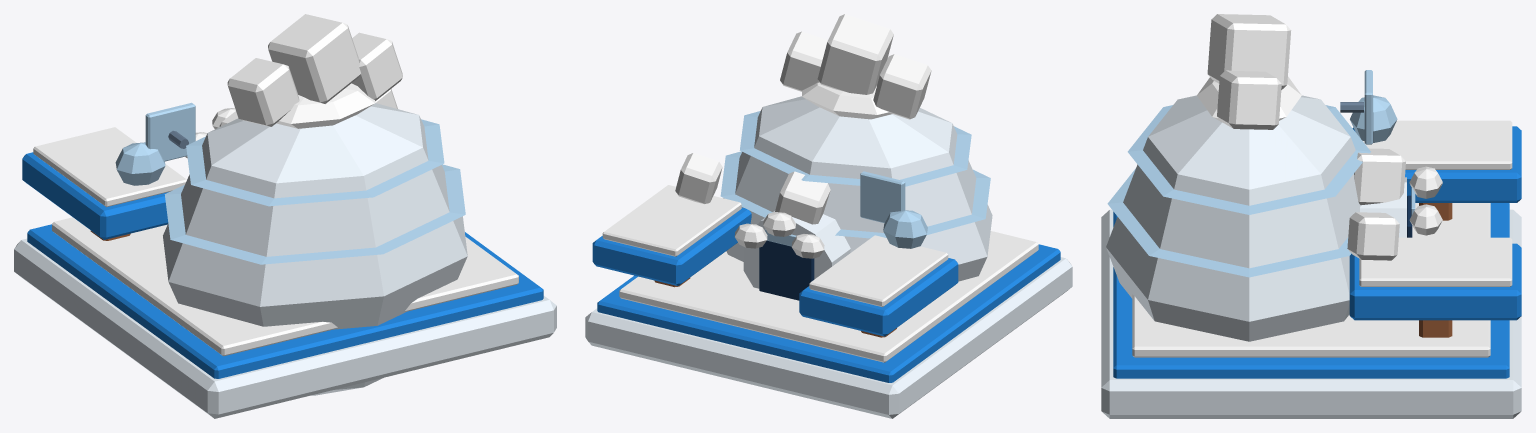
File: Building_IceHouse_1x1_v002.fbx
The picture shows the model from 3 angles, left to right: view 1: azimuth 30°, elevation 25°; view 2: azimuth 150°, elevation 25°; view 3: azimuth 270°, elevation 25°; orthographic projection. The views are drawn at different scales.
Visible parts, largest first — view 1: FixedShell, WorkingPartMesh, OutputItemMesh; view 2: FixedShell, EffectPartMesh, ProcessFinishedMesh, WorkingPartMesh, InputItemMesh, OutputItemMesh; view 3: FixedShell, ProcessFinishedMesh, InputItemMesh, EffectPartMesh, OutputItemMesh, WorkingPartMesh.
Part boxes in pixels (x1,y1,x2,y2): FixedShell: (14,14,556,418); WorkingPartMesh: (145,102,195,161); OutputItemMesh: (115,142,165,185); FixedShell: (585,14,1072,418); EffectPartMesh: (734,212,824,258); ProcessFinishedMesh: (775,171,830,224); WorkingPartMesh: (860,171,905,223); InputItemMesh: (675,153,722,203); OutputItemMesh: (883,210,927,248); FixedShell: (1101,14,1521,418); ProcessFinishedMesh: (1354,148,1405,205); InputItemMesh: (1347,212,1399,260); EffectPartMesh: (1409,166,1442,235); OutputItemMesh: (1350,95,1397,142); WorkingPartMesh: (1340,70,1372,144).
Size of the model in its own units: 88 by 89.98 by 88.
